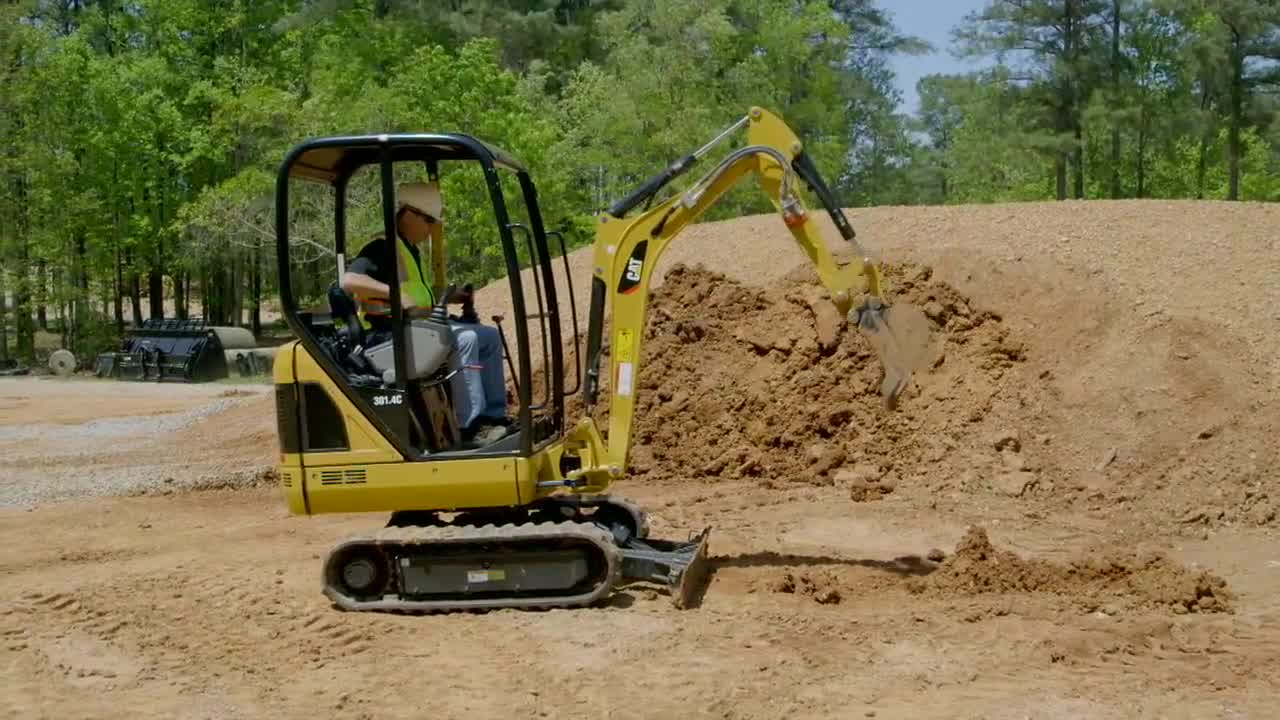attachment-bucket: (843, 299, 936, 402)
cabin: (281, 137, 574, 527)
forearm: (750, 111, 876, 306)
upperarm: (584, 143, 756, 484)
wheelbase: (319, 497, 648, 621)
